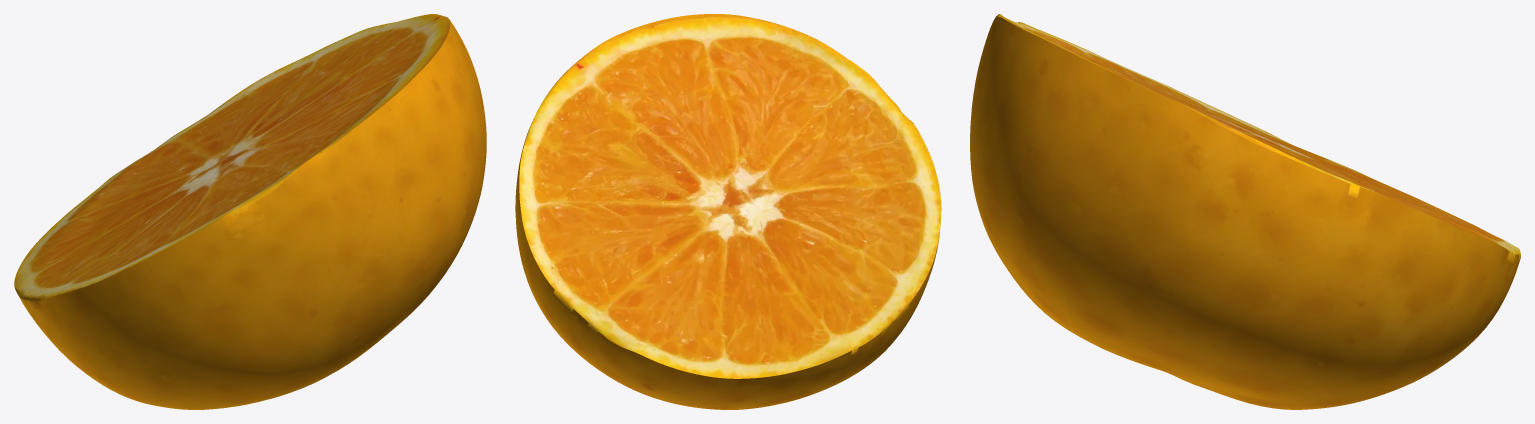
The model's file is orange.glb.
3 views of the same model, side by side, from view 1: azimuth 30°, elevation 25°; view 2: azimuth 150°, elevation 25°; view 3: azimuth 270°, elevation 25° (orthographic). The views are drawn at different scales.
Parts seen in each view (by area): view 1: Object_1; view 2: Object_1; view 3: Object_1.
Boxes of the visible parts, x1,y1,x2,y2 form: Object_1: (14, 14, 486, 409); Object_1: (515, 14, 941, 409); Object_1: (970, 14, 1520, 409).
Size of the model in its own units: 0.0958 by 0.075 by 0.0926.
Materials: 1 (1 with a texture image).
